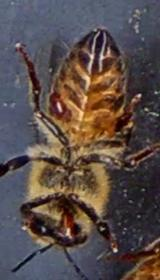varroa_mite: (41, 88, 69, 117)
